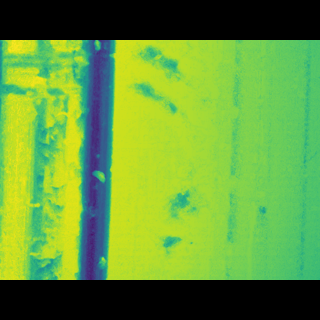Loch: (119, 69, 229, 246), (0, 74, 93, 251)
